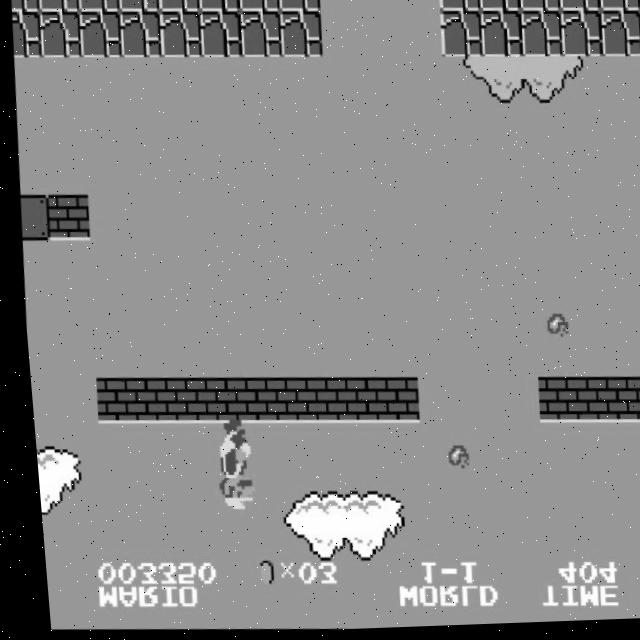1- brick_block: (42, 193, 88, 242), (87, 377, 133, 425), (127, 377, 173, 425), (248, 378, 294, 426), (328, 378, 374, 426), (208, 378, 254, 425), (288, 379, 334, 426), (368, 379, 414, 426), (528, 380, 574, 427), (568, 380, 614, 427), (168, 378, 213, 425), (608, 380, 640, 428)
17- undestructible_block: (116, 11, 163, 59), (237, 11, 283, 60), (517, 13, 563, 62), (36, 10, 82, 58), (76, 11, 122, 59), (157, 11, 203, 59), (197, 11, 243, 59), (277, 12, 323, 60), (437, 13, 483, 61), (477, 13, 523, 61), (557, 14, 603, 62), (598, 13, 640, 62), (10, 10, 43, 58), (477, 0, 521, 16), (517, 0, 561, 16), (558, 0, 601, 16), (598, 0, 640, 16), (437, 0, 481, 15), (117, 0, 160, 14), (197, 0, 240, 14), (237, 0, 280, 14), (277, 0, 320, 14), (37, 0, 80, 13), (77, 0, 120, 13), (157, 0, 200, 13), (10, 0, 40, 13), (637, 14, 640, 61), (638, 0, 640, 15)
3- empty_block: (15, 194, 48, 241)
4- fire_mario: (200, 421, 252, 517)
5- fireball: (438, 447, 461, 475), (540, 317, 563, 344)
